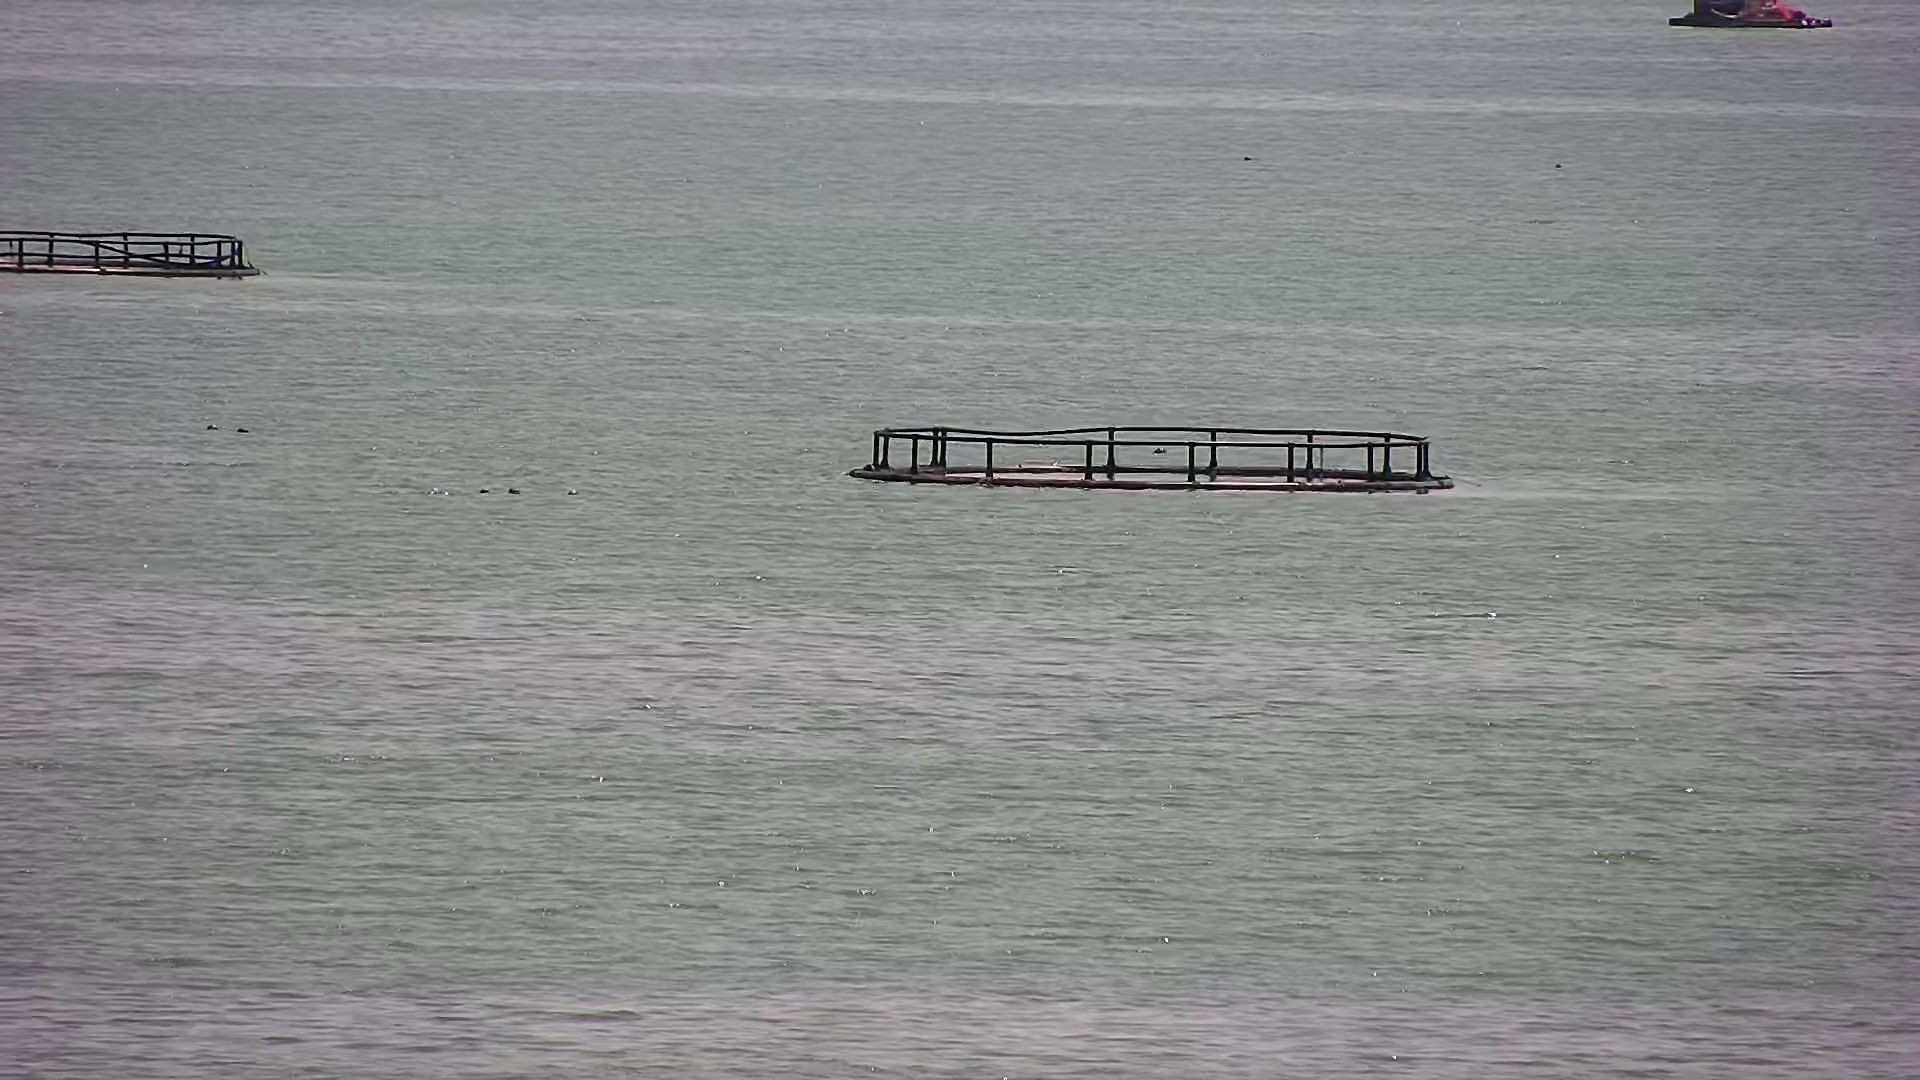platform: (845, 413, 1458, 500), (1, 227, 272, 287), (1669, 1, 1836, 32)
